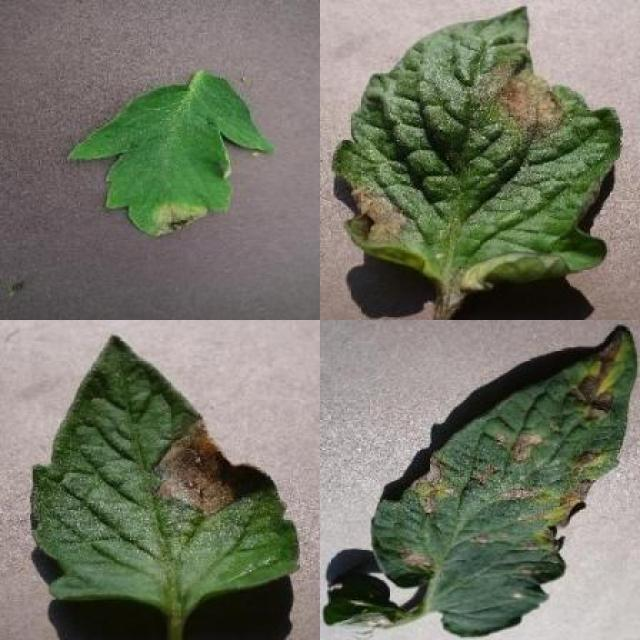Early Blight: (367, 325, 636, 635)
Late Blight: (331, 3, 623, 294), (34, 334, 304, 606), (66, 74, 277, 236)
